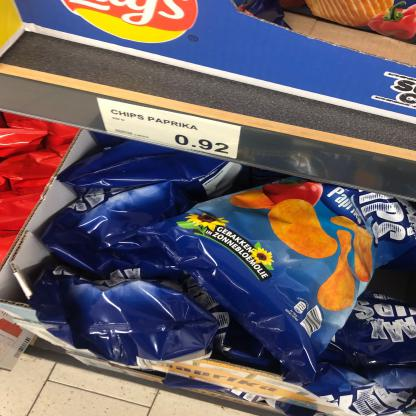prtg: (98, 98, 243, 161)
